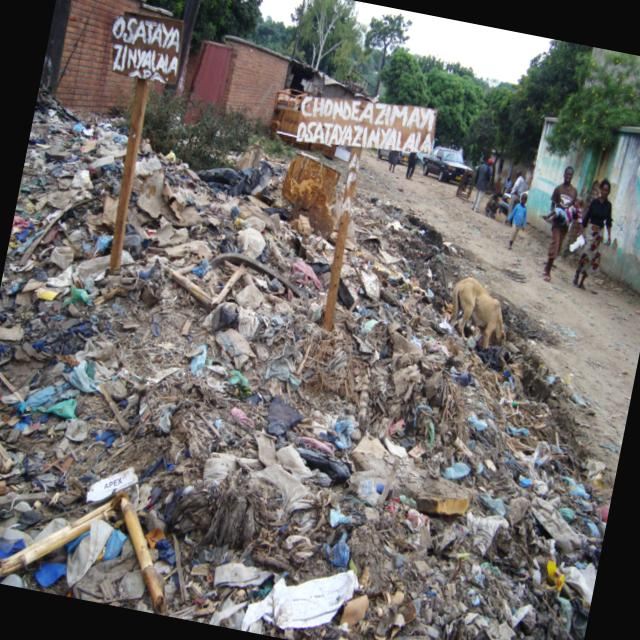garbage: (0, 233, 631, 640), (11, 96, 463, 315)
